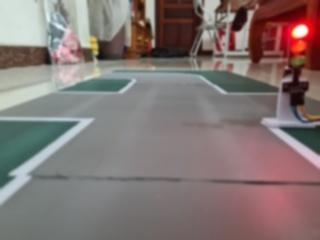red: (277, 16, 313, 94)
